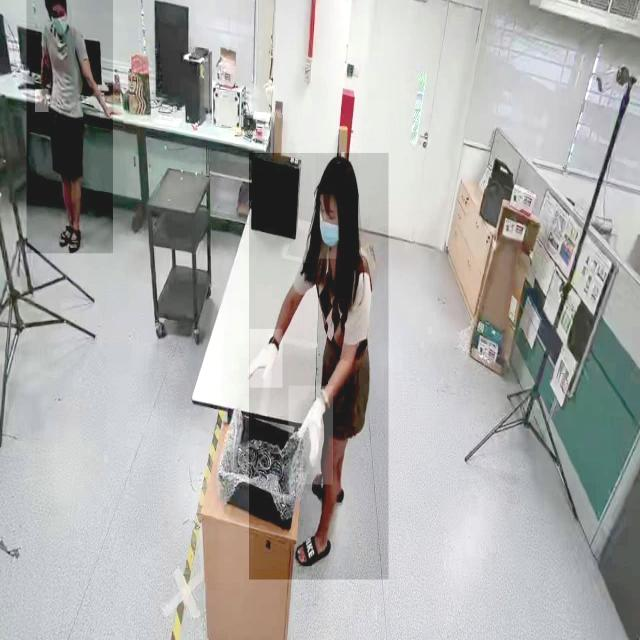face_mask: (313, 194, 343, 258)
hand_glove: (288, 386, 334, 485), (250, 329, 282, 387)
hand_noglove: (100, 95, 125, 119), (35, 89, 49, 113)
head_nohelmet: (316, 154, 358, 194)
person: (249, 153, 389, 580), (27, 0, 114, 254)
